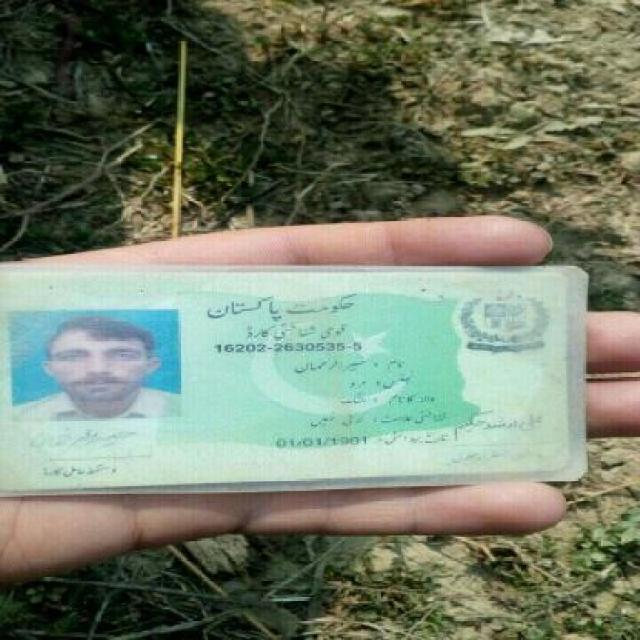Front: (12, 258, 614, 502)
